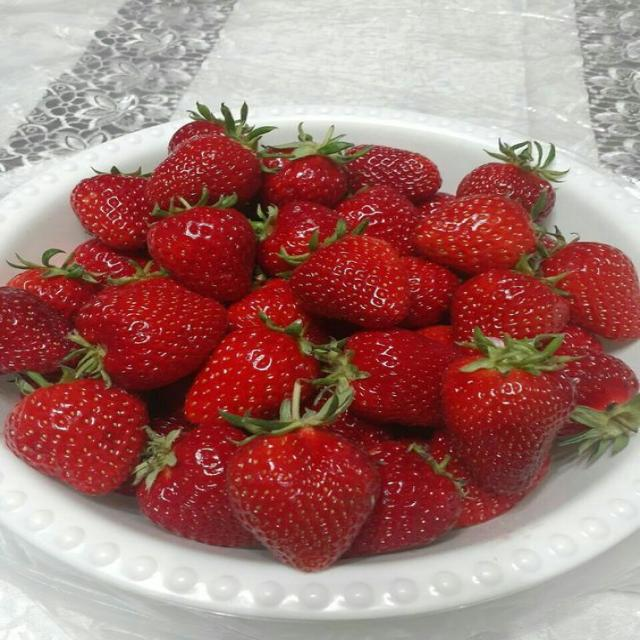strawberry: (227, 386, 379, 571), (443, 332, 575, 494), (77, 276, 226, 390), (5, 380, 147, 494), (137, 424, 255, 547), (184, 322, 319, 424), (147, 106, 272, 210), (349, 442, 464, 555), (428, 432, 550, 527), (148, 197, 256, 302), (290, 235, 410, 328), (345, 330, 457, 426), (542, 242, 639, 340), (415, 195, 535, 274), (457, 141, 567, 222), (559, 352, 639, 459), (451, 269, 569, 340), (261, 126, 352, 207), (71, 168, 153, 250), (227, 279, 329, 343), (7, 249, 100, 319), (0, 287, 73, 373), (254, 201, 338, 275), (336, 185, 419, 255), (347, 146, 441, 203), (566, 352, 638, 411), (401, 257, 460, 327), (73, 240, 149, 284), (317, 411, 392, 450), (168, 103, 225, 154), (145, 372, 196, 418), (416, 325, 475, 357), (555, 325, 604, 356), (148, 416, 195, 447), (418, 192, 456, 218), (150, 415, 196, 436), (417, 325, 453, 343)
